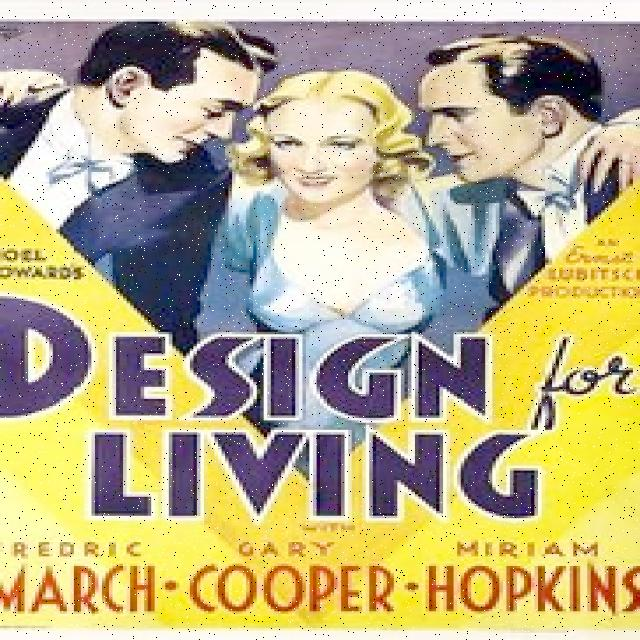movie-judul: (0, 294, 640, 525)
picture: (2, 19, 640, 281)
